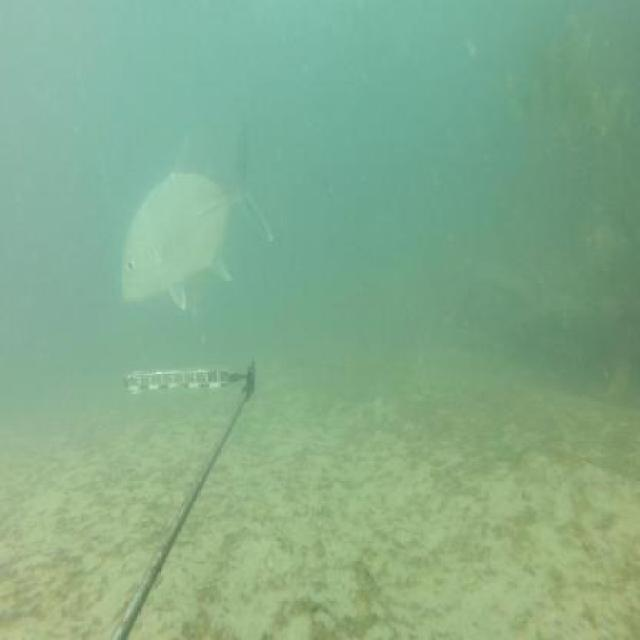Caranx: (118, 123, 276, 314)
